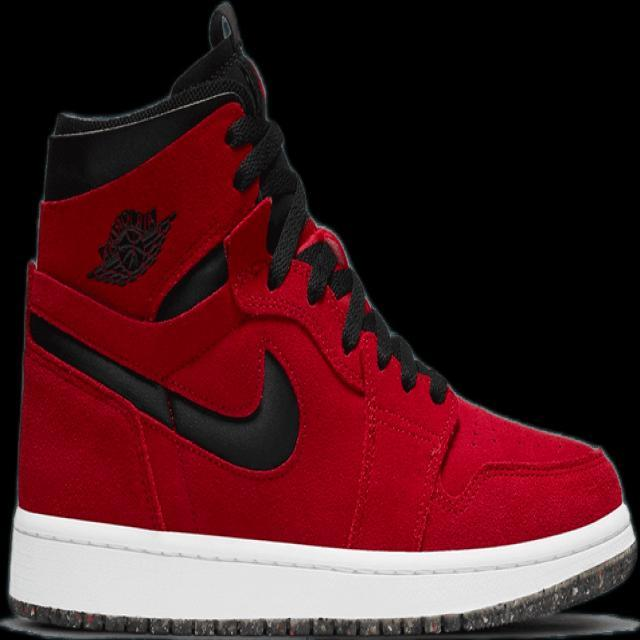J1_InsoleChar: (2, 1, 638, 638)
J1_ShoeLogo: (85, 204, 177, 287)
J1_StitchPattern: (5, 518, 637, 637), (222, 108, 451, 407), (26, 307, 303, 471), (293, 225, 449, 403), (6, 596, 637, 638), (340, 349, 457, 552), (26, 309, 179, 434), (223, 109, 310, 289), (296, 235, 370, 353), (407, 411, 460, 554), (341, 387, 383, 550)
